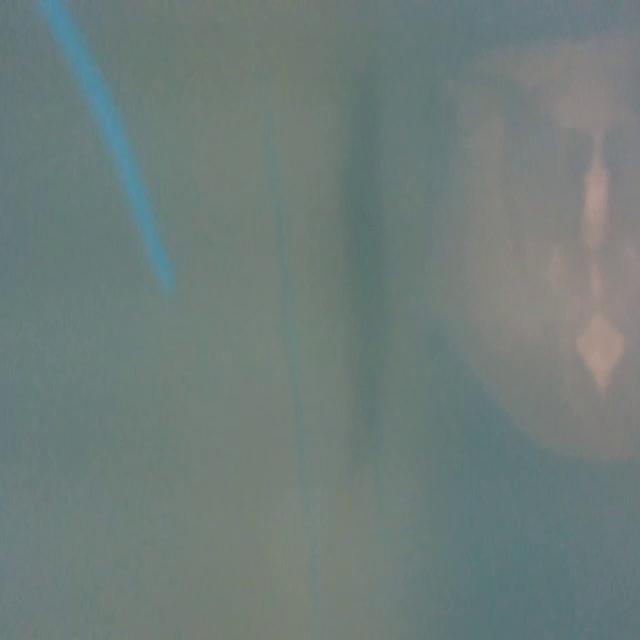plastic bags: (431, 48, 640, 465)
